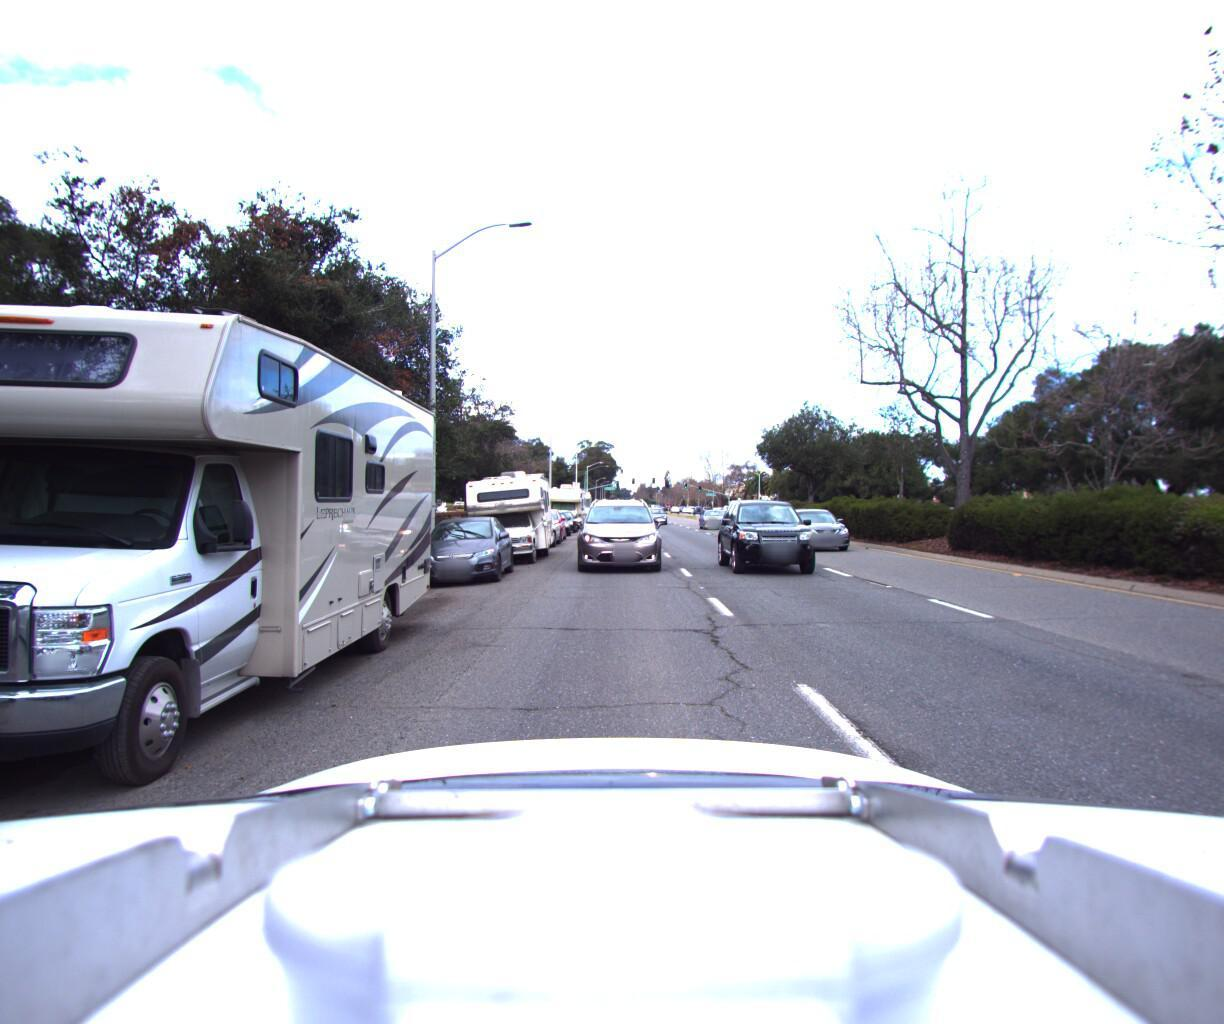car: (720, 491, 840, 580), (401, 509, 518, 585), (576, 490, 660, 575), (778, 508, 864, 557), (503, 505, 560, 548), (697, 503, 736, 528), (543, 503, 575, 532), (647, 506, 672, 525)
other_vehicle: (0, 137, 437, 876), (438, 451, 556, 567), (536, 478, 585, 529), (556, 483, 590, 523)
